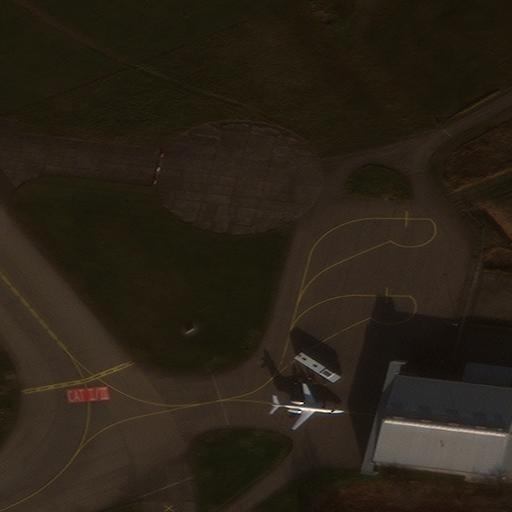Small Civil Transport: (270, 383, 349, 428)
